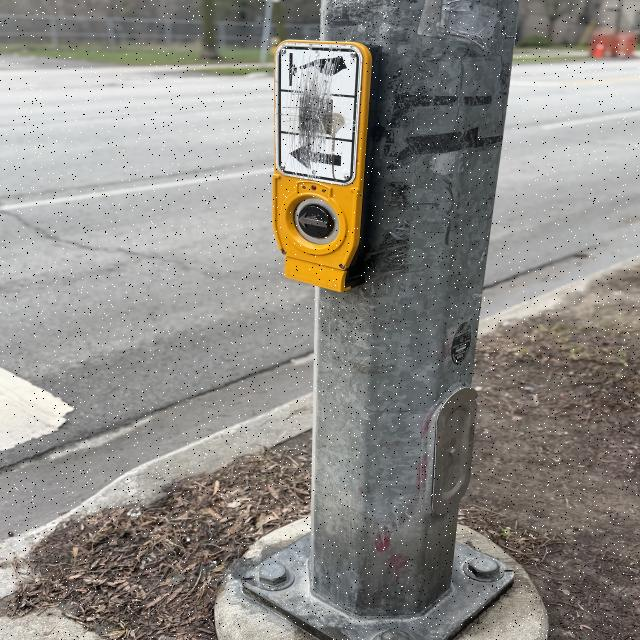Electrical Pole: (238, 1, 524, 640)
